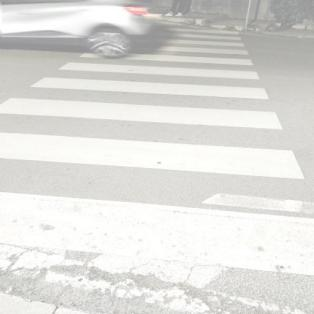Paso de Cebra: (0, 129, 310, 279), (22, 59, 276, 105)
